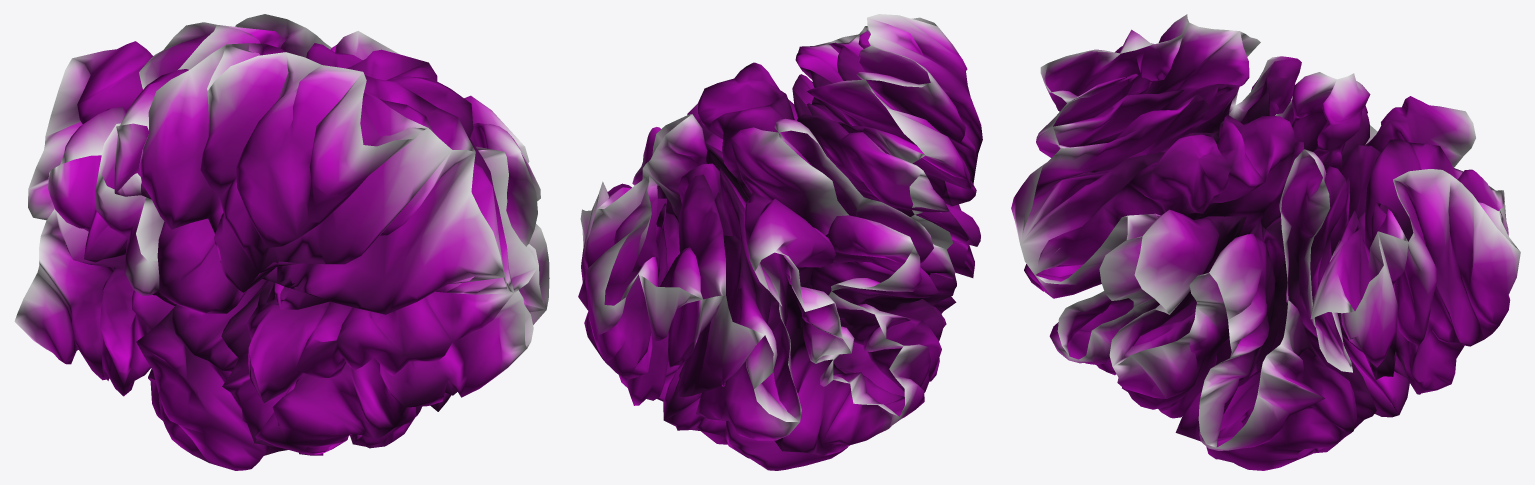
File: JuliusUberall_MeshGrowth_Geometry_3D.glb
3 views of the same model, side by side, from view 1: azimuth 30°, elevation 25°; view 2: azimuth 150°, elevation 25°; view 3: azimuth 270°, elevation 25° (orthographic). The views are drawn at different scales.
Parts seen in each view (by area): view 1: Object_1; view 2: Object_1; view 3: Object_1.
Part boxes in pixels (bbox=[...]): Object_1: bbox=[14, 14, 549, 470]; Object_1: bbox=[578, 14, 982, 470]; Object_1: bbox=[1011, 14, 1520, 470].
Size of the model in its own units: 4.23 by 4.42 by 5.24.
